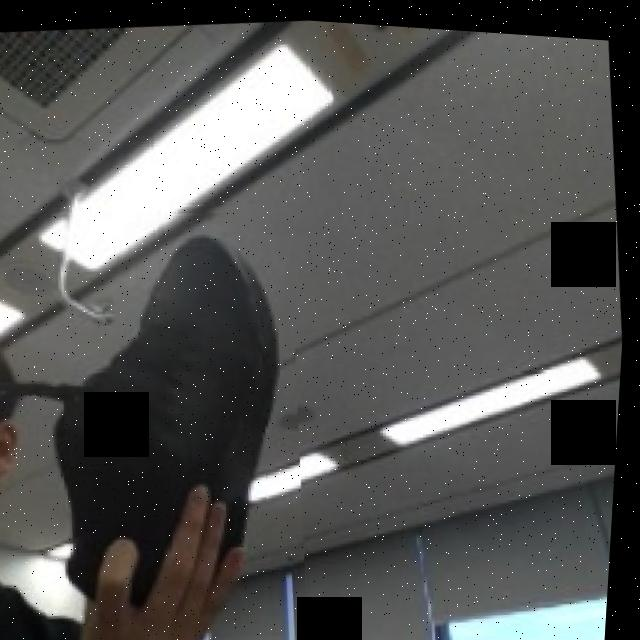shoe: (0, 185, 335, 640)
